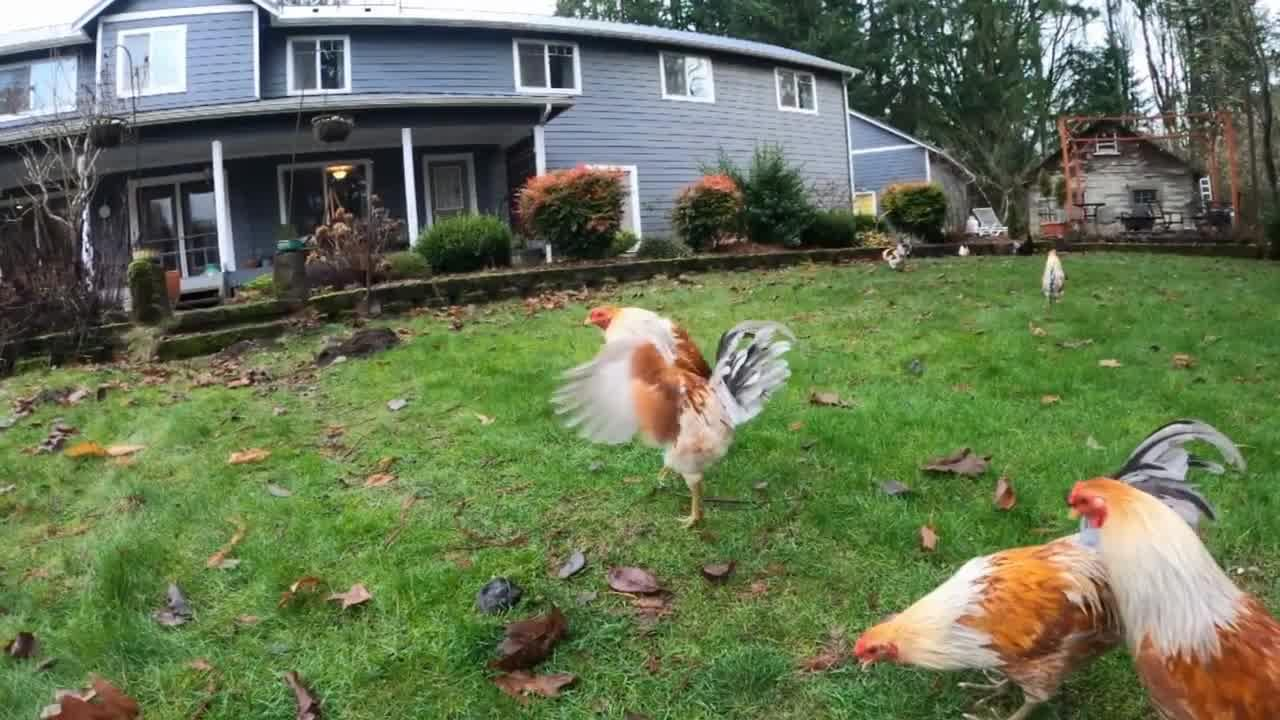Normal: (840, 420, 1242, 720), (544, 280, 792, 534), (1054, 464, 1280, 720)
